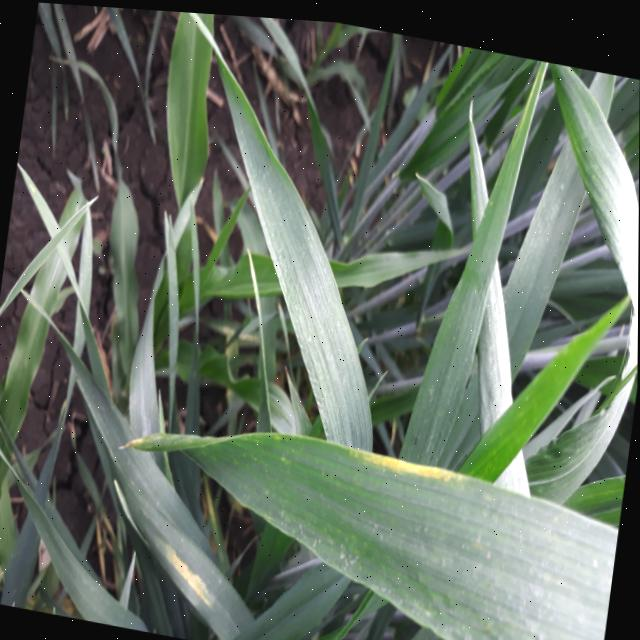yellow_rust: (230, 389, 624, 640), (77, 363, 271, 640)
